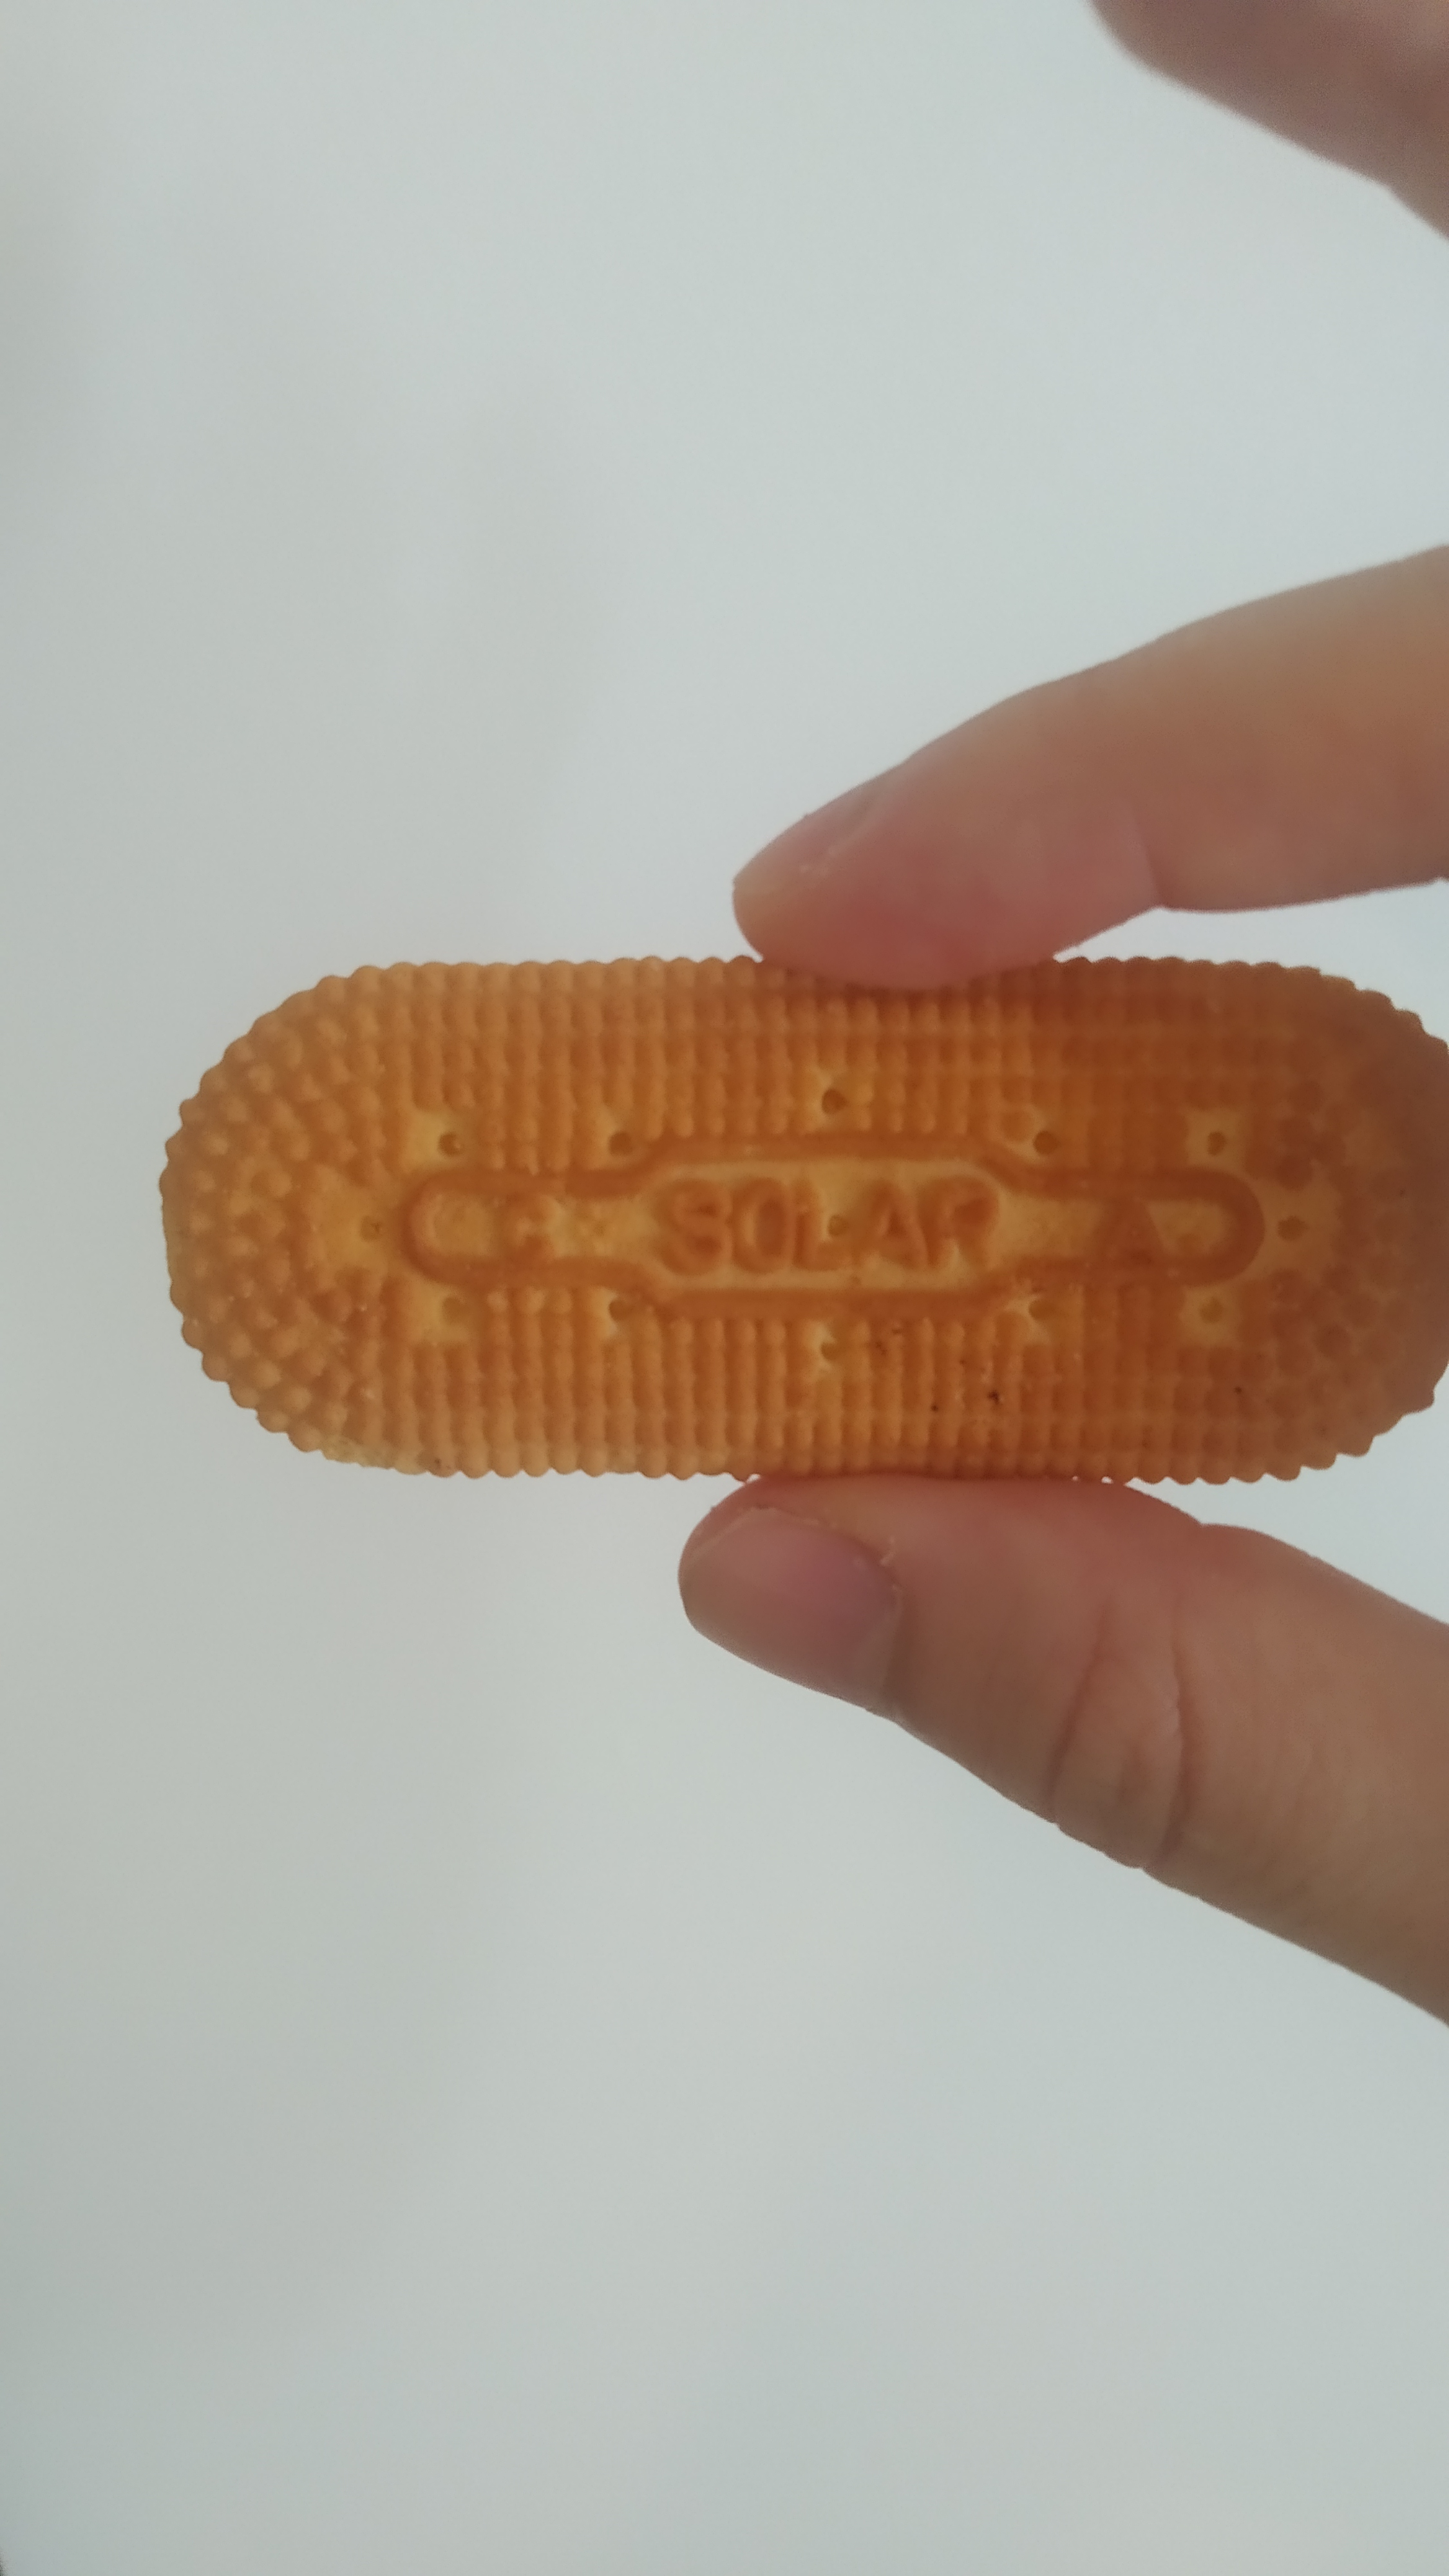solar: (157, 961, 1449, 1486)
